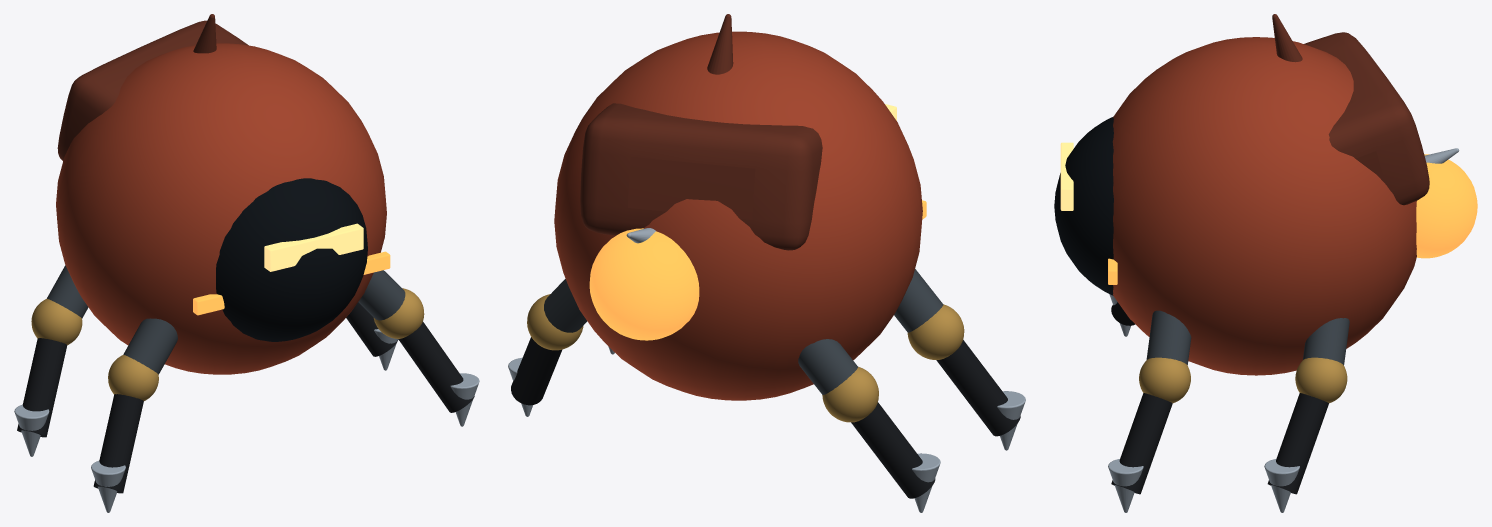
The model's file is mite.glb.
The picture shows the model from 3 angles, left to right: view 1: azimuth 30°, elevation 25°; view 2: azimuth 150°, elevation 25°; view 3: azimuth 270°, elevation 25°; orthographic projection. The views are drawn at different scales.
Parts seen in each view (by area): view 1: Core, Face, CoreCap, LegL11.002, LegL-11.002, LegL-10.001, Eye, LegU-11.002, Knee-10.001, Knee-11.002, LegU11.002, Knee11.002 (+7 smaller); view 2: Core, CoreCap, ReactorCell.003, LegL-10.001, LegL-11.002, LegU-10.001, Knee-10.001, Knee-11.002, LegL10.001, LegU-11.002, Knee10.001, LegU10.001 (+3 smaller); view 3: Core, CoreCap, Face, ReactorCell.003, LegL11.002, LegL10.001, Knee10.001, Knee11.002, LegU11.002, LegU10.001, Foot11.001, Foot10.001 (+2 smaller).
Boxes of the visible parts, x1,y1,x2,y2 form: Core: (56,43,386,374); Face: (216,178,367,341); CoreCap: (57,20,248,160); LegL11.002: (398,322,474,412); LegL-11.002: (93,394,143,493); LegL-10.001: (17,338,67,437); Eye: (264,223,363,271); LegU-11.002: (123,318,177,374); Knee-10.001: (31,299,82,344); Knee-11.002: (108,355,158,400); LegU11.002: (358,270,405,320); Knee11.002: (373,288,424,338); Core: (554,31,922,400); CoreCap: (580,103,822,250); ReactorCell.003: (589,228,699,340); LegL-10.001: (851,402,935,498); LegL-11.002: (936,340,1020,436); LegU-10.001: (798,339,857,394); Knee-10.001: (822,367,878,422); Knee-11.002: (907,304,964,359); LegL10.001: (511,337,562,405); LegU-11.002: (894,269,943,332); Knee10.001: (527,294,583,350); LegU10.001: (544,279,587,332); Core: (1112,37,1416,375); CoreCap: (1304,32,1429,205); Face: (1054,117,1113,295); ReactorCell.003: (1416,154,1477,258); LegL11.002: (1111,393,1172,494); LegL10.001: (1267,393,1328,494); Knee10.001: (1295,357,1347,403); Knee11.002: (1139,357,1190,403); LegU11.002: (1146,310,1191,365); LegU10.001: (1303,318,1349,365); Foot11.001: (1108,459,1143,512); Foot10.001: (1264,459,1299,512).
Bounding box in the file's own units: 0.6947 × 0.6952 × 0.65.
